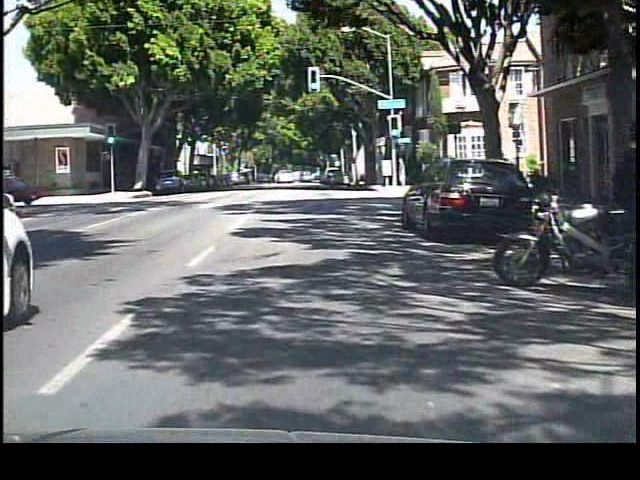person: (393, 156, 410, 191)
